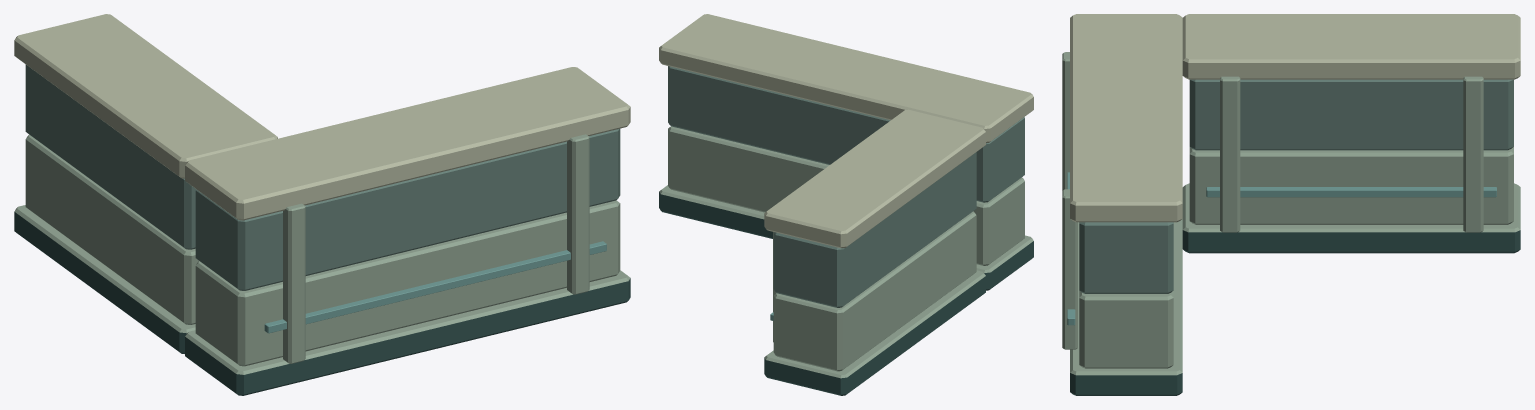
The model's file is wall-corner.glb.
3 renders of one model, left to right at view 1: azimuth 30°, elevation 25°; view 2: azimuth 150°, elevation 25°; view 3: azimuth 270°, elevation 25°, orthographic. The views are drawn at different scales.
Parts seen in each view (by area): view 1: wall-corner__body; view 2: wall-corner__body; view 3: wall-corner__body.
Boxes of the visible parts, x1,y1,x2,y2 form: wall-corner__body: (14, 14, 630, 395); wall-corner__body: (659, 14, 1033, 395); wall-corner__body: (1062, 14, 1520, 395).
Size of the model in its own units: 2 by 0.95 by 2.03.
